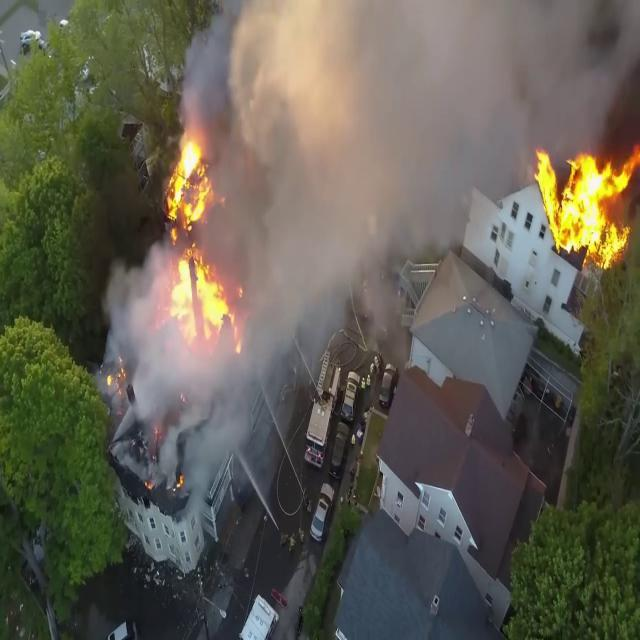Fire: (156, 130, 240, 360), (532, 130, 640, 272)
Smoke: (101, 233, 173, 395)
